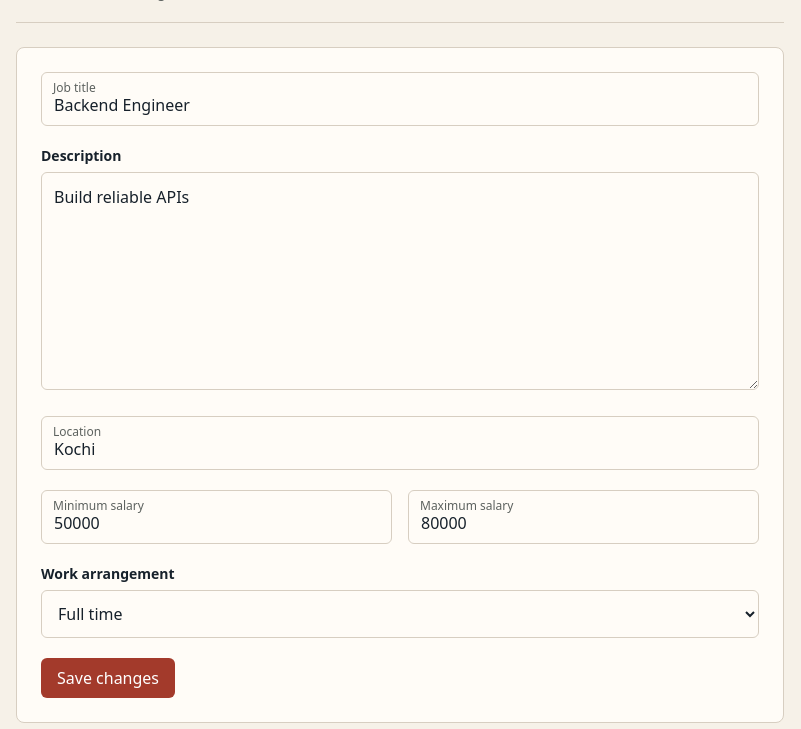
Test: JobEditorPage › keeps the form available and reports a failed save
(page scrolled)
Expected: the field showing "Backend Engineer" is shown, [41,72,759,126]
Step 1. Click the button "Save changes" → coordinates (108, 678), box [41,658,175,698]
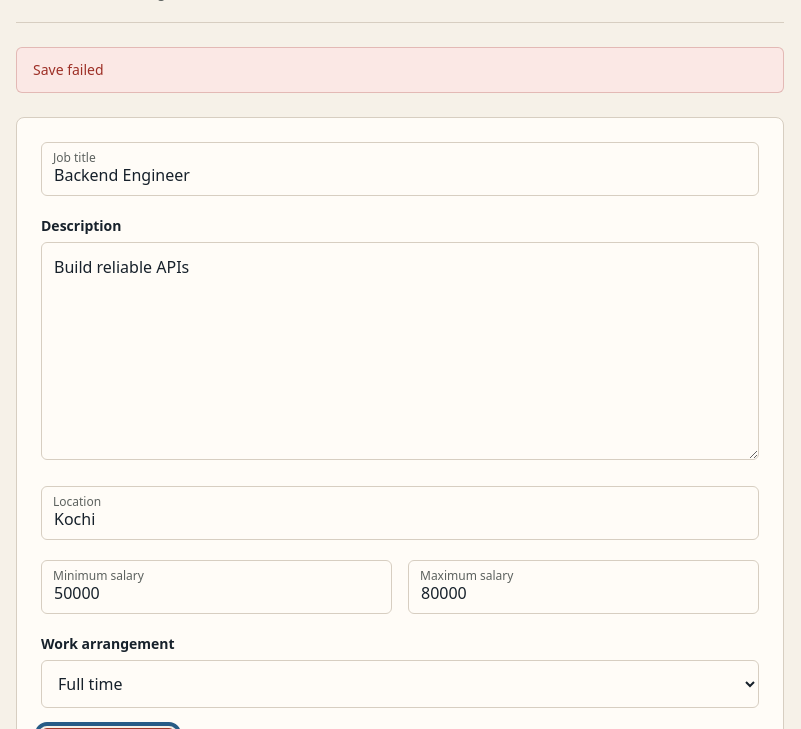
Expected: the field showing "Backend Engineer" is shown, [41,142,759,196]
Now the text "Save failed" is shown, box [33,60,104,79]
